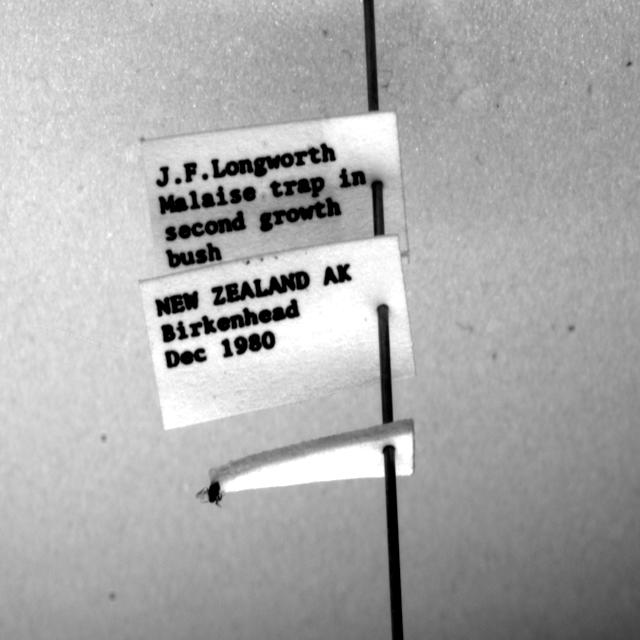typed_label: (140, 236, 415, 429), (142, 111, 409, 276)
